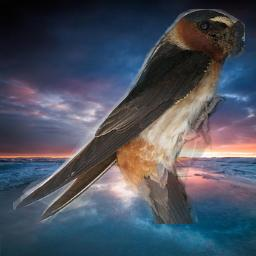Swallow: (13, 9, 245, 224)
